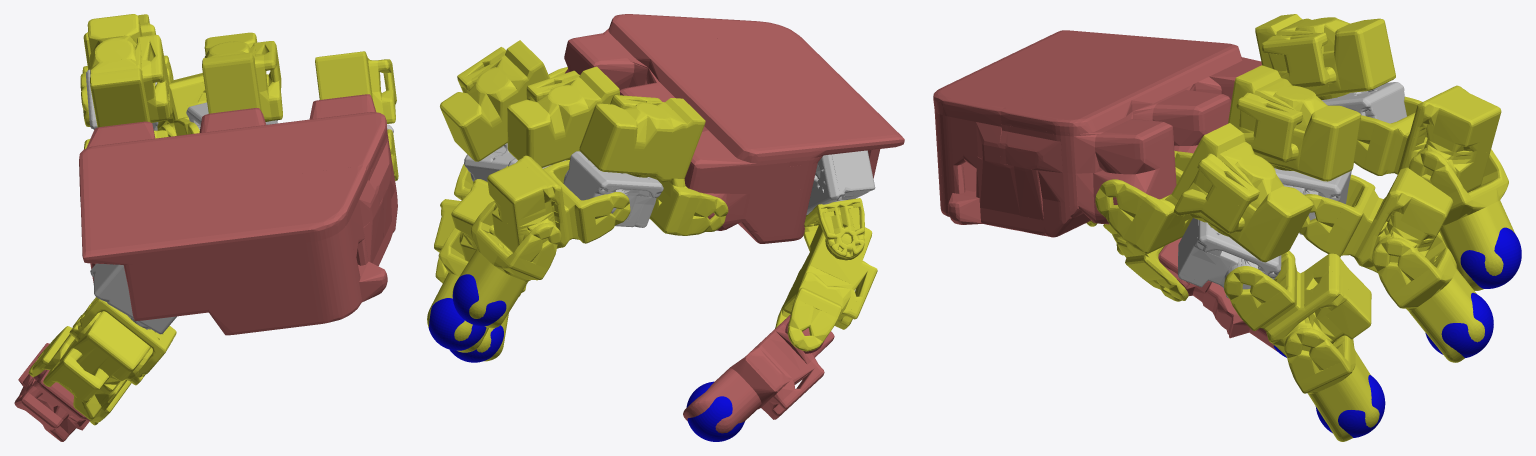
File: hand.glb
3 renders of one model, left to right at view 1: azimuth 30°, elevation 25°; view 2: azimuth 150°, elevation 25°; view 3: azimuth 270°, elevation 25°, orthographic. The views are drawn at different scales.
Parts seen in each view (by area): view 1: world; view 2: world; view 3: world.
Boxes of the visible parts, x1,y1,x2,y2 form: world: (14, 14, 398, 441); world: (427, 14, 904, 441); world: (933, 14, 1521, 441).
Bounding box in the file's own units: 0.1873 × 0.1617 × 0.2265.
